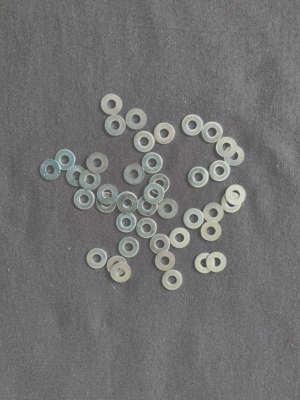circle: (100, 93, 123, 115), (182, 114, 204, 137), (209, 160, 231, 182), (105, 114, 126, 136), (134, 131, 155, 153), (97, 184, 119, 205), (96, 192, 117, 214), (150, 234, 171, 256), (188, 167, 210, 188), (126, 109, 147, 130), (40, 160, 61, 181), (55, 150, 76, 171), (87, 153, 108, 174), (66, 166, 87, 187), (124, 164, 145, 185), (154, 123, 175, 144), (202, 122, 223, 143), (119, 237, 140, 258), (155, 251, 176, 272), (170, 228, 191, 249), (183, 209, 204, 230), (158, 199, 179, 220), (221, 193, 242, 214), (226, 185, 247, 206), (224, 146, 245, 167), (217, 137, 238, 158), (79, 170, 101, 190), (74, 188, 94, 210), (86, 249, 108, 269), (195, 253, 215, 275), (143, 153, 163, 174), (150, 174, 170, 195), (145, 184, 165, 205), (117, 191, 137, 212), (137, 218, 157, 239), (162, 271, 183, 291), (201, 222, 222, 242), (207, 252, 227, 273), (112, 263, 132, 283), (108, 256, 128, 276), (138, 196, 158, 216), (118, 194, 138, 214), (117, 213, 137, 233), (204, 203, 224, 223)
